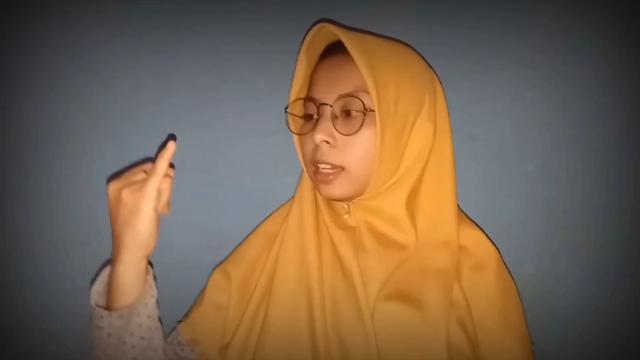J: (105, 136, 179, 264)
